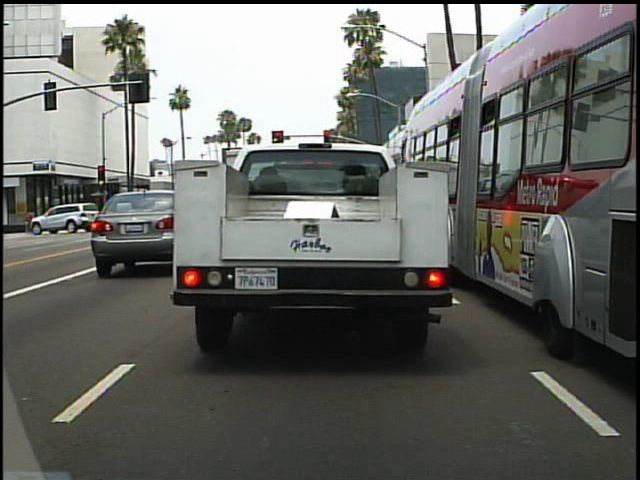person: (23, 208, 37, 237)
